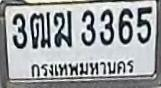3: (81, 10, 96, 46), (12, 13, 27, 49), (100, 9, 114, 45)
5: (136, 7, 151, 44)
6: (119, 8, 133, 44)
A06: (53, 10, 72, 48)
A18: (29, 11, 51, 49)
BKK: (26, 55, 140, 77)
